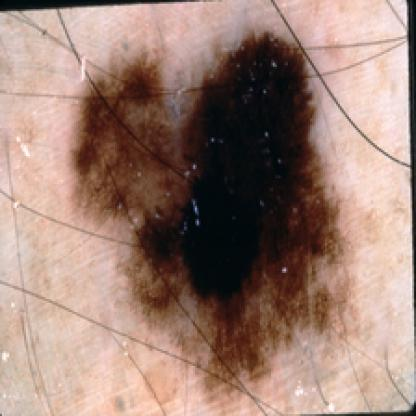malignant: (95, 48, 172, 227)
